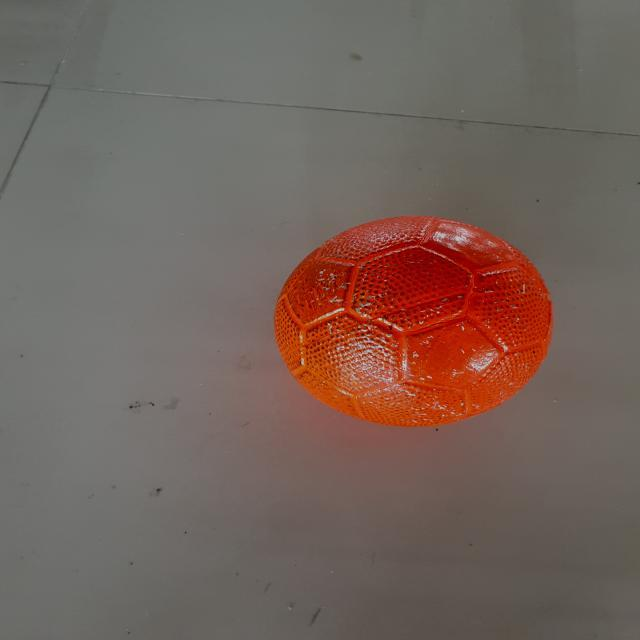bola: (264, 206, 564, 434)
